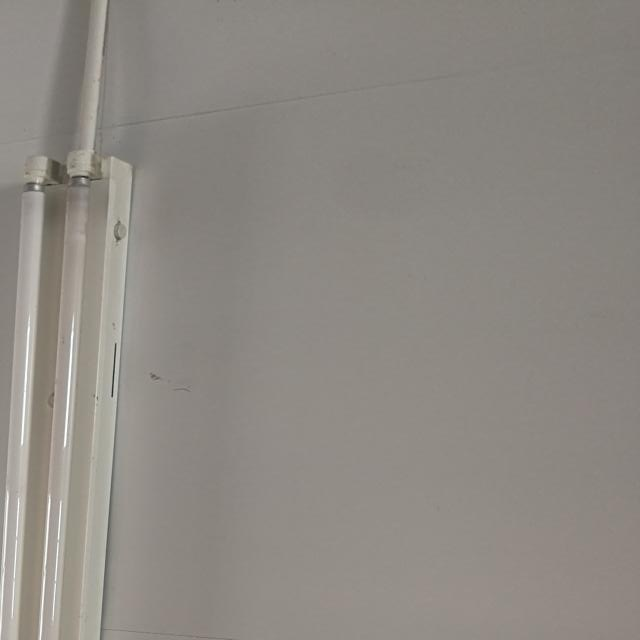fluorescent tube: (0, 103, 161, 640)
